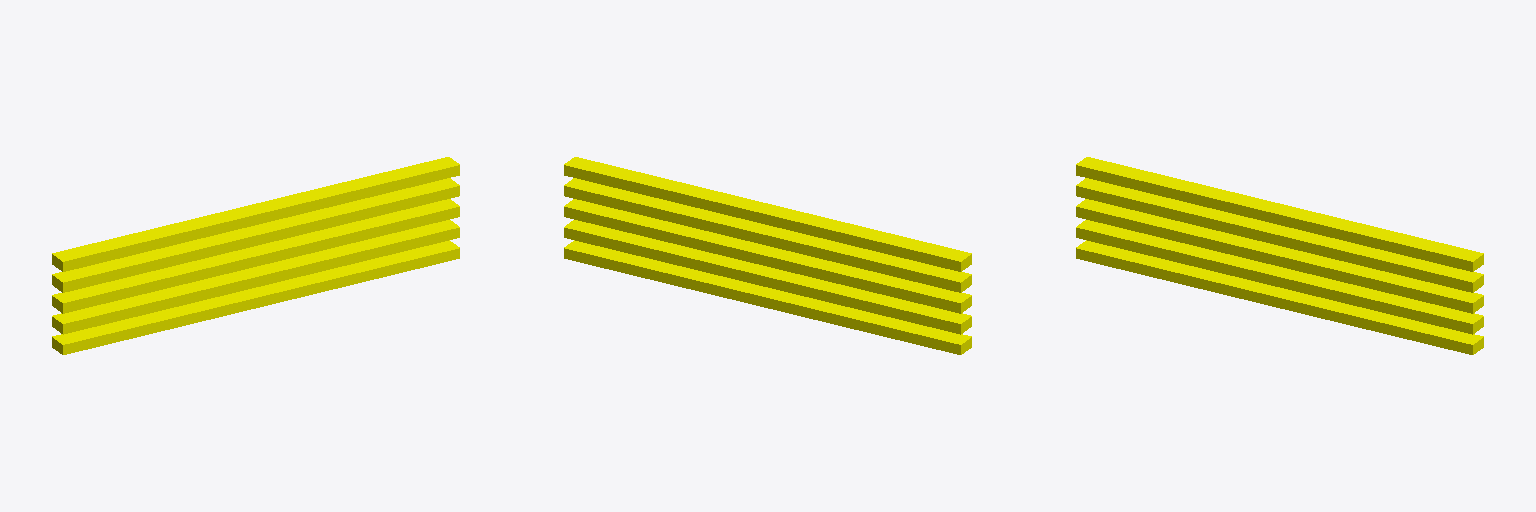
File: wall.obj
The picture shows the model from 3 angles: view 1: azimuth 30°, elevation 25°; view 2: azimuth 150°, elevation 25°; view 3: azimuth 330°, elevation 25°; orthographic projection.
Visible parts, largest first — view 1: cube1; view 2: cube1; view 3: cube1.
Boxes of the visible parts, x1=… form: cube1: x1=52, y1=157, x2=459, y2=354; cube1: x1=564, y1=157, x2=971, y2=354; cube1: x1=1076, y1=157, x2=1483, y2=354.
Bounding box in the file's own units: 80 × 18 × 4.